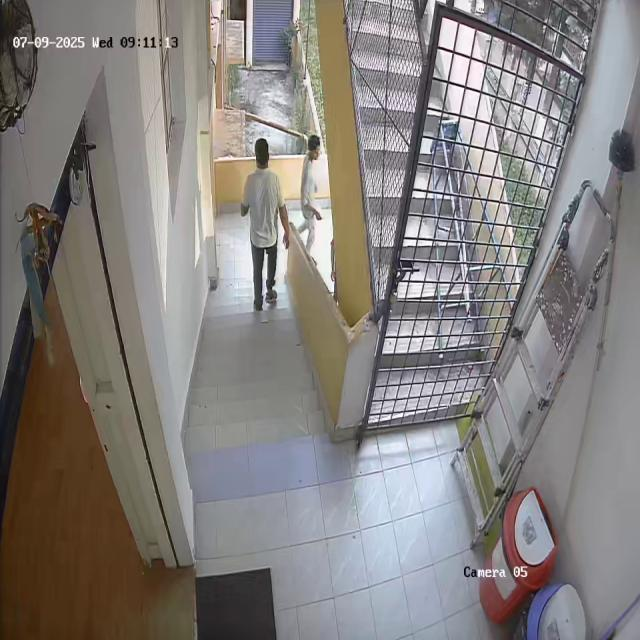person: (239, 136, 286, 308), (298, 134, 326, 251)
